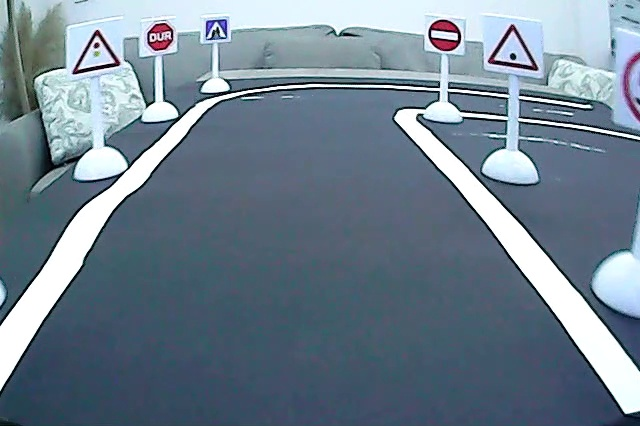do not enter: (427, 17, 463, 55)
green light: (484, 19, 543, 74)
red light: (70, 25, 124, 76)
school crossing: (203, 18, 229, 43)
stop sign: (144, 19, 176, 55)
